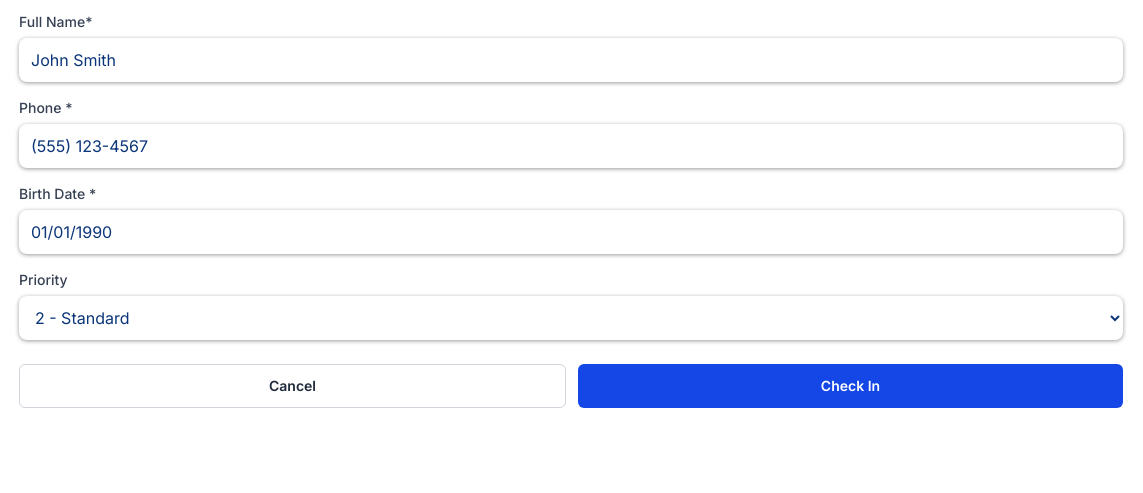
Test case: NewPatientCheckInForm › validates required fields
# Clear name field
Clear the field showing "John Smith" at (571, 60), box [19,38,1123,82]
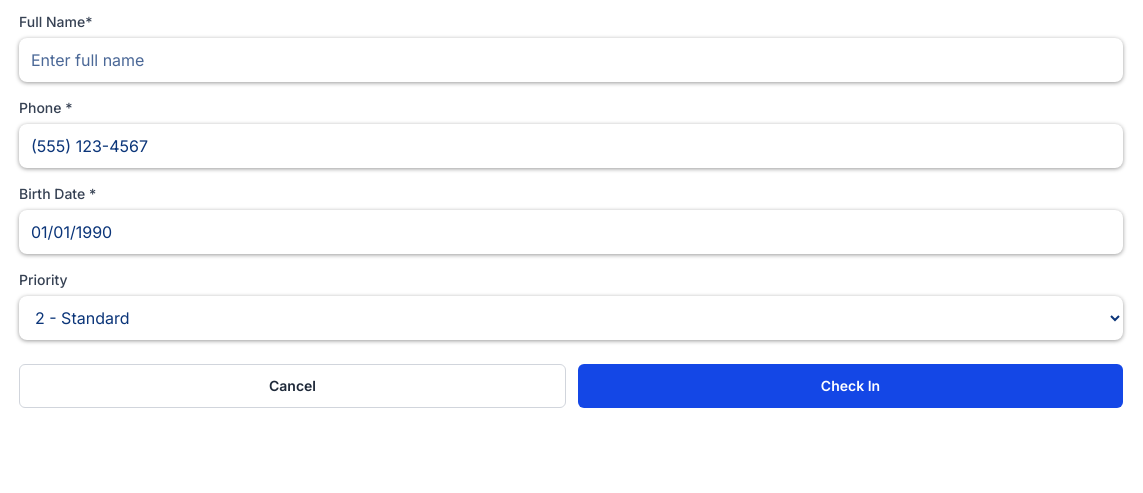
# Try to submit
Click the button "Check In" at (850, 386), box [578,364,1123,408]
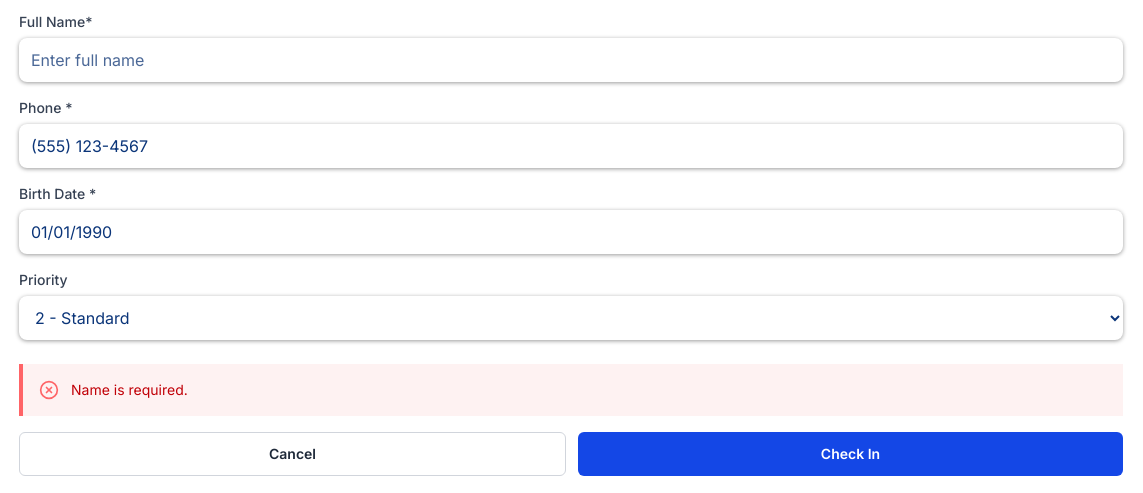
Check: the text "Name is required." is shown, box [71,381,188,398]
